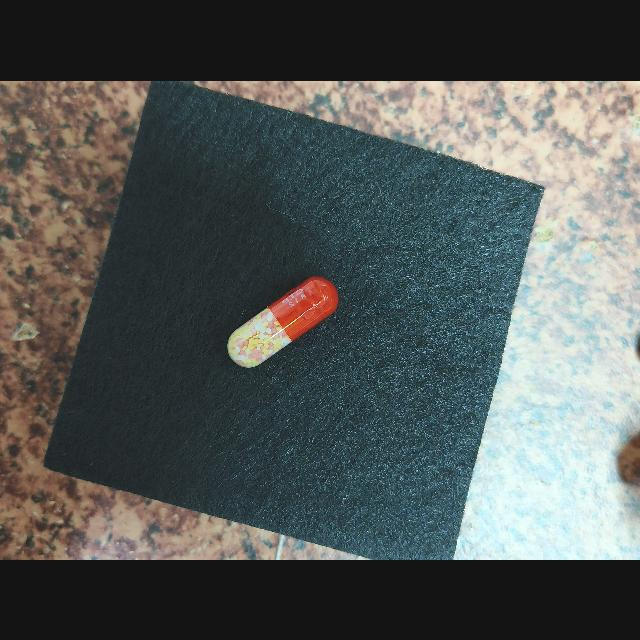Intact Capsule: (228, 276, 338, 367)
